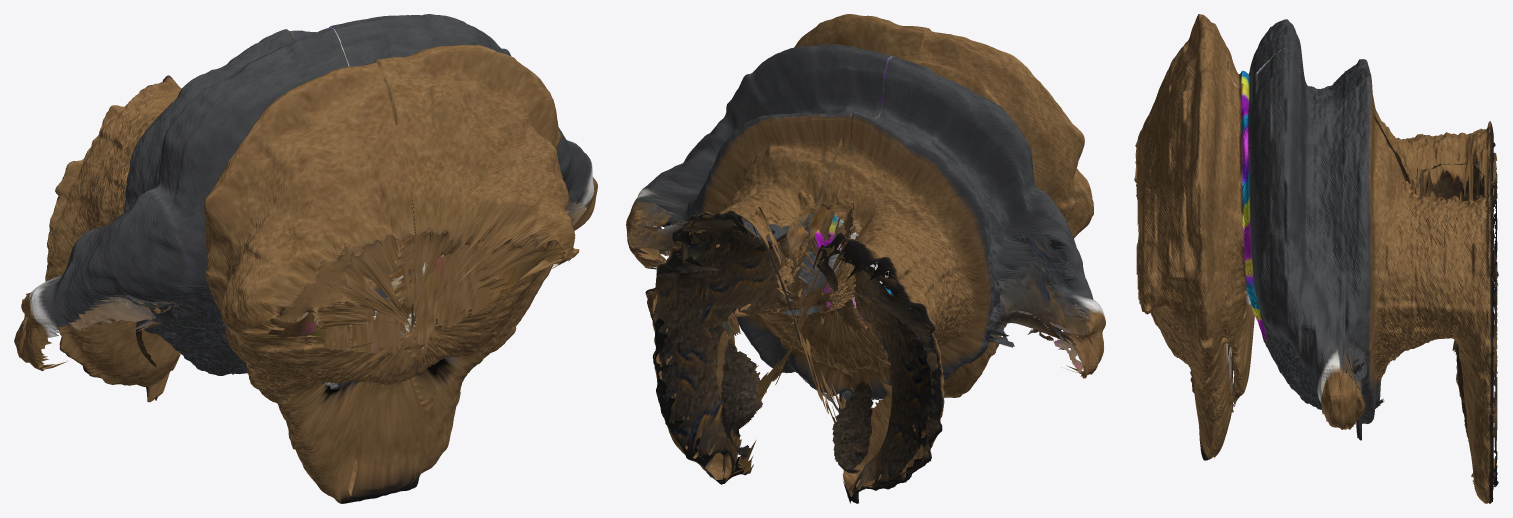
The model's file is mesh_inpaint.glb.
3 renders of one model, left to right at view 1: azimuth 30°, elevation 25°; view 2: azimuth 150°, elevation 25°; view 3: azimuth 270°, elevation 25°, orthographic. The views are drawn at different scales.
Visible parts, largest first — view 1: ipn, fill; view 2: ipn, fill; view 3: ipn, fill.
Part boxes in pixels (left/top/right/bottom): ipn: left=14, top=14, right=597, bottom=503; fill: left=21, top=188, right=587, bottom=411; ipn: left=626, top=14, right=1105, bottom=503; fill: left=627, top=138, right=1094, bottom=491; ipn: left=1136, top=14, right=1493, bottom=503; fill: left=1134, top=113, right=1498, bottom=498.
Bounding box in the file's own units: 1.95 × 1.49 × 1.19.
Materials: 2 (1 with a texture image).
